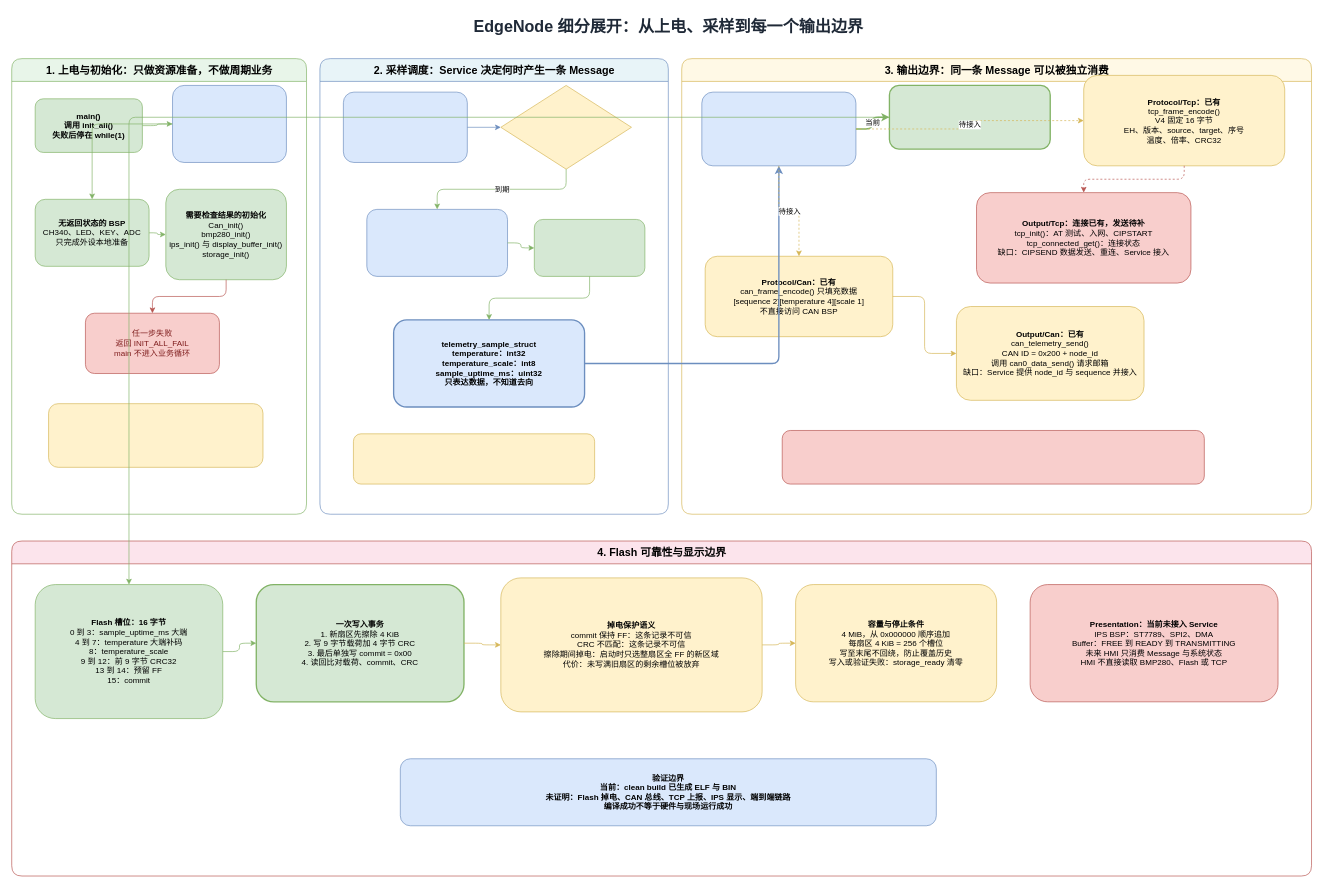
Some shapes in this 1323 by 888 pixel diagram are drawn without their labels. Each missing label, with the centre of its shape:
board_config_init() 最先执行 时钟与 SysTick 毫秒计时 NVIC 与 SWD 共享 SPI0 总线: point 229,123
message_collect() 委托 Acquisition/Collection 读取 BMP280: point 589,247
Service 的扇出策略 当前：仅调用 Storage 未来：同一 Message 再交 TCP 与 CAN 各输出应独立报告成功或失败: point 778,128
Storage：当前已接入 storage_temperature(message) 只追加，不把地址策略交给 main: point 969,116
TCP 不在 init_all() 中 tcp_init() 需要 WiFi 与服务器配置 它自己会初始化 ESP12S 避免 USART1 重复初始化: point 155,435
while(1) 启动提示 LED1 与 LED2 翻转 调用 node_service_run_once(): point 405,126
到期后先记录本轮时刻 即使随后采样或存储失败 也不会在紧循环内无限重试: point 437,242
当前禁止伪报成功 Transmit 的 TCP/CAN 函数在真实发送未完成前返回 FAIL 待接入能力不等于已经工作: point 993,457
时间门 读取 board_systick_ms now - last < 1000 ms 直接返回，不采样不写 Flash: point 565,127
返回值 1：本轮无须采样或存储成功 0：采样失败或 Storage 失败 main 当前未展示该状态: point 474,458
